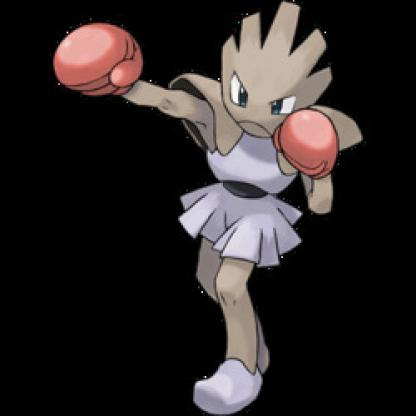Hitmonchan: (58, 4, 363, 416)
